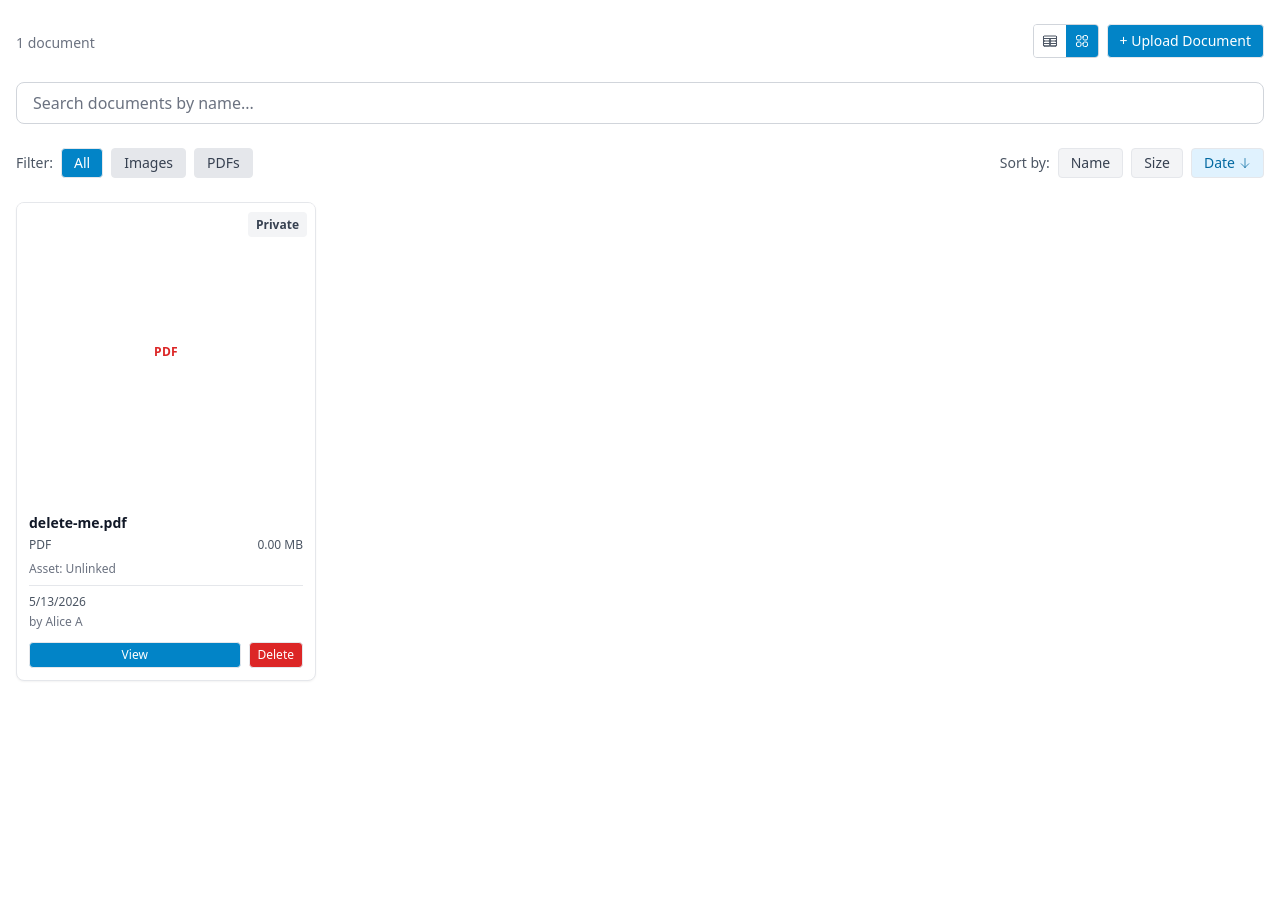
DocumentsPage › shows delete confirmation dialog from card actions
Expected: the text "delete-me.pdf" is shown, [29,513,127,532]
Step 1. Click the button "Delete" → (276, 655), box [248,642,303,668]
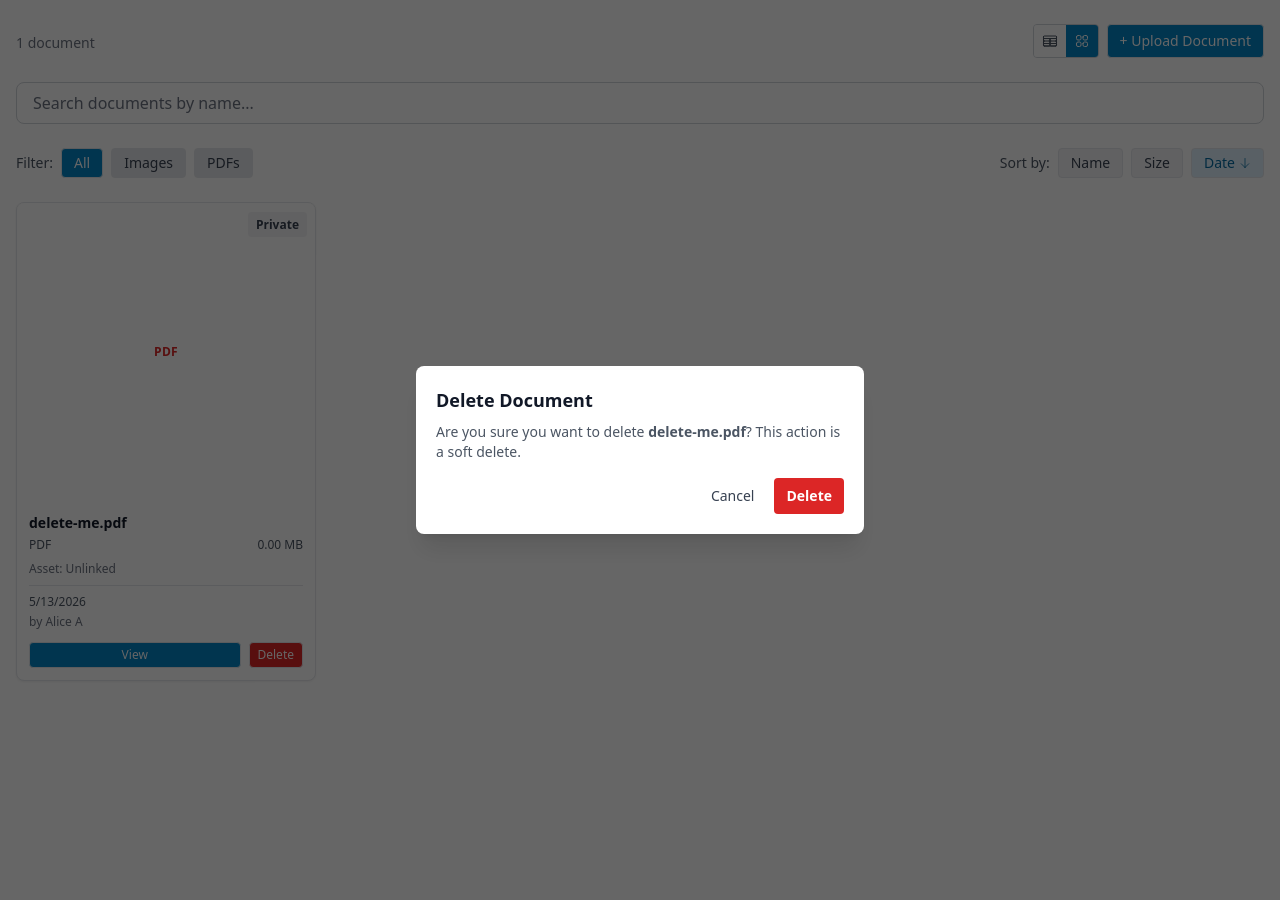
Expected: the heading "Delete Document" is shown, [436,388,593,412]
Expected: the text "soft delete" is shown, [436,422,840,461]
